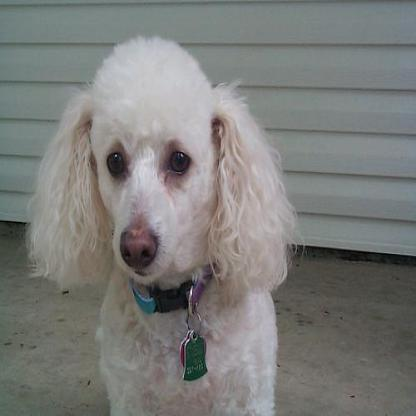miniature_poodle: (24, 32, 300, 414)
